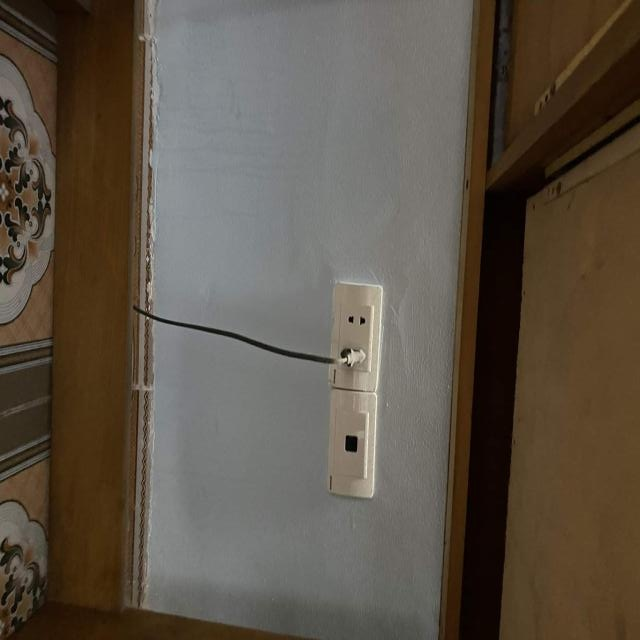outlet: (329, 281, 384, 391), (327, 389, 378, 498)
